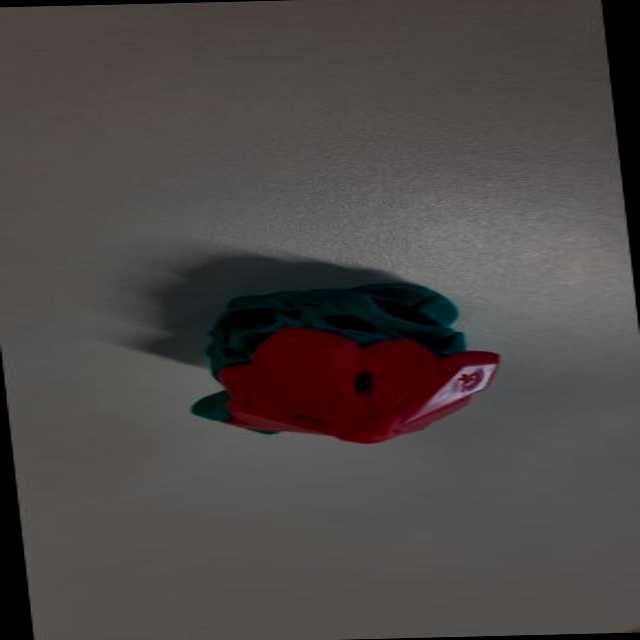House: (168, 264, 522, 452)
